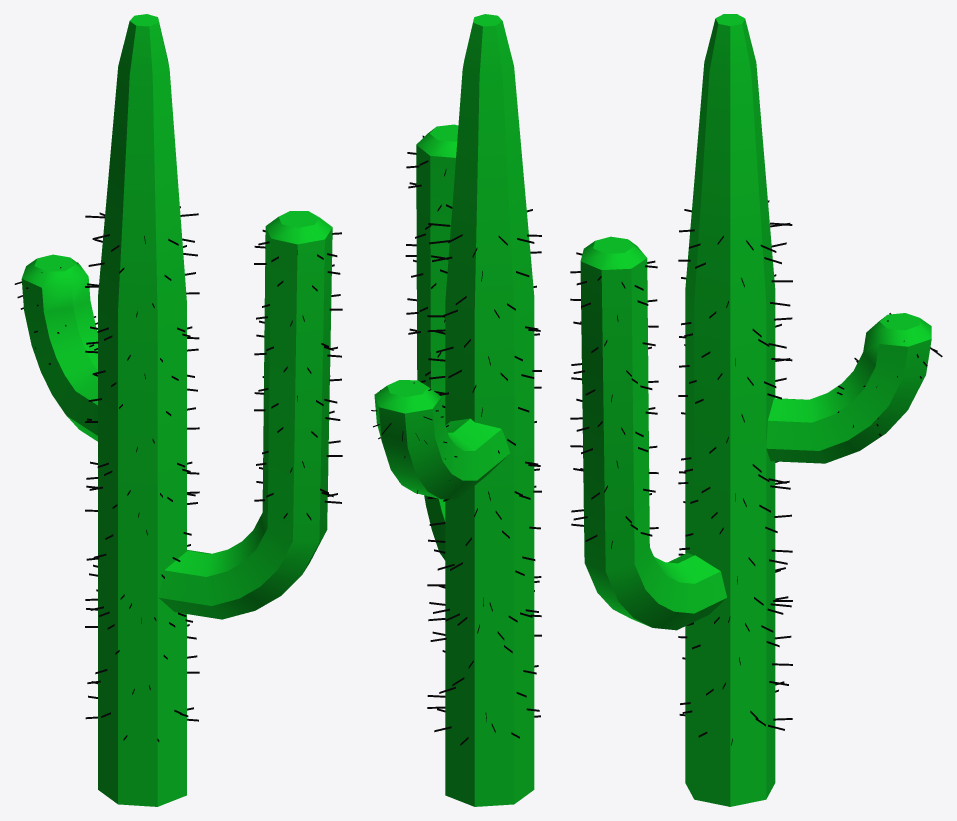
The model's file is Cactus.1.fbx.
The picture shows the model from 3 angles, left to right: view 1: azimuth 30°, elevation 25°; view 2: azimuth 150°, elevation 25°; view 3: azimuth 270°, elevation 25°; orthographic projection.
Parts seen in each view (by area): view 1: Cylinder, Cylinder_2, Cylinder_1; view 2: Cylinder, Cylinder_1, Cylinder_2; view 3: Cylinder, Cylinder_2, Cylinder_1.
Boxes of the visible parts, x1,y1,x2,y2 form: Cylinder: (98,14,186,806); Cylinder_2: (158,211,332,619); Cylinder_1: (21,254,97,441); Cylinder: (445,14,534,806); Cylinder_1: (374,380,510,499); Cylinder_2: (416,124,458,560); Cylinder: (685,14,775,806); Cylinder_2: (580,236,726,630); Cylinder_1: (766,313,931,463).
Size of the model in its own units: 1580 by 6329 by 2782.
